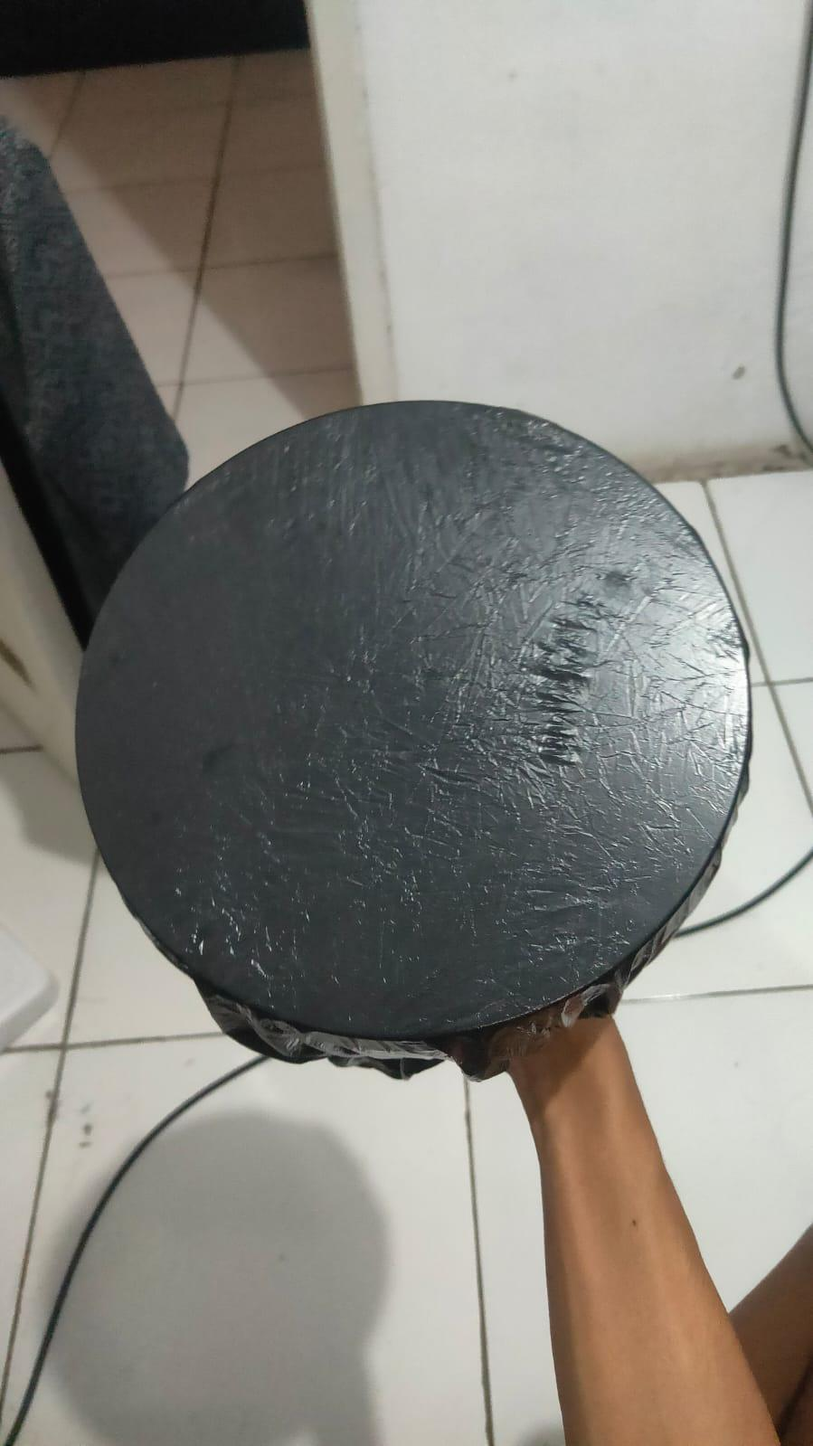undamaged: (58, 386, 760, 1110)
